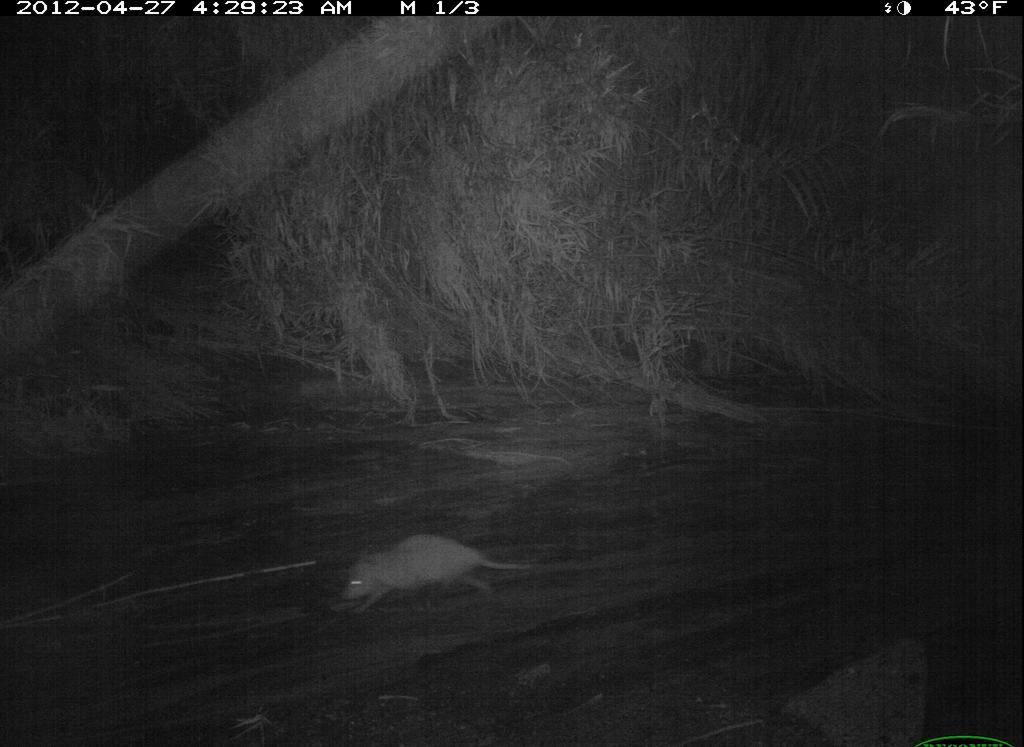opossum: (336, 532, 552, 614)
